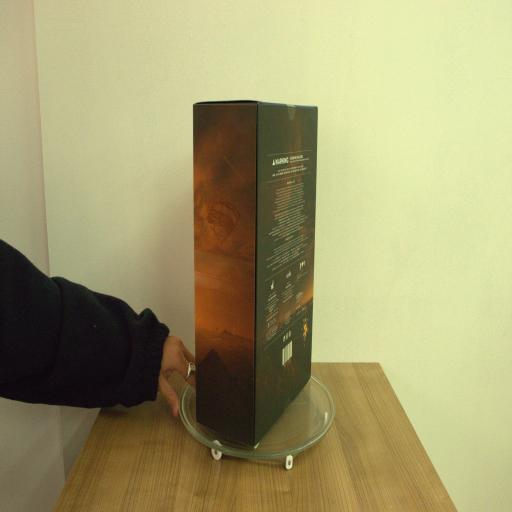superman: (193, 103, 315, 444)
